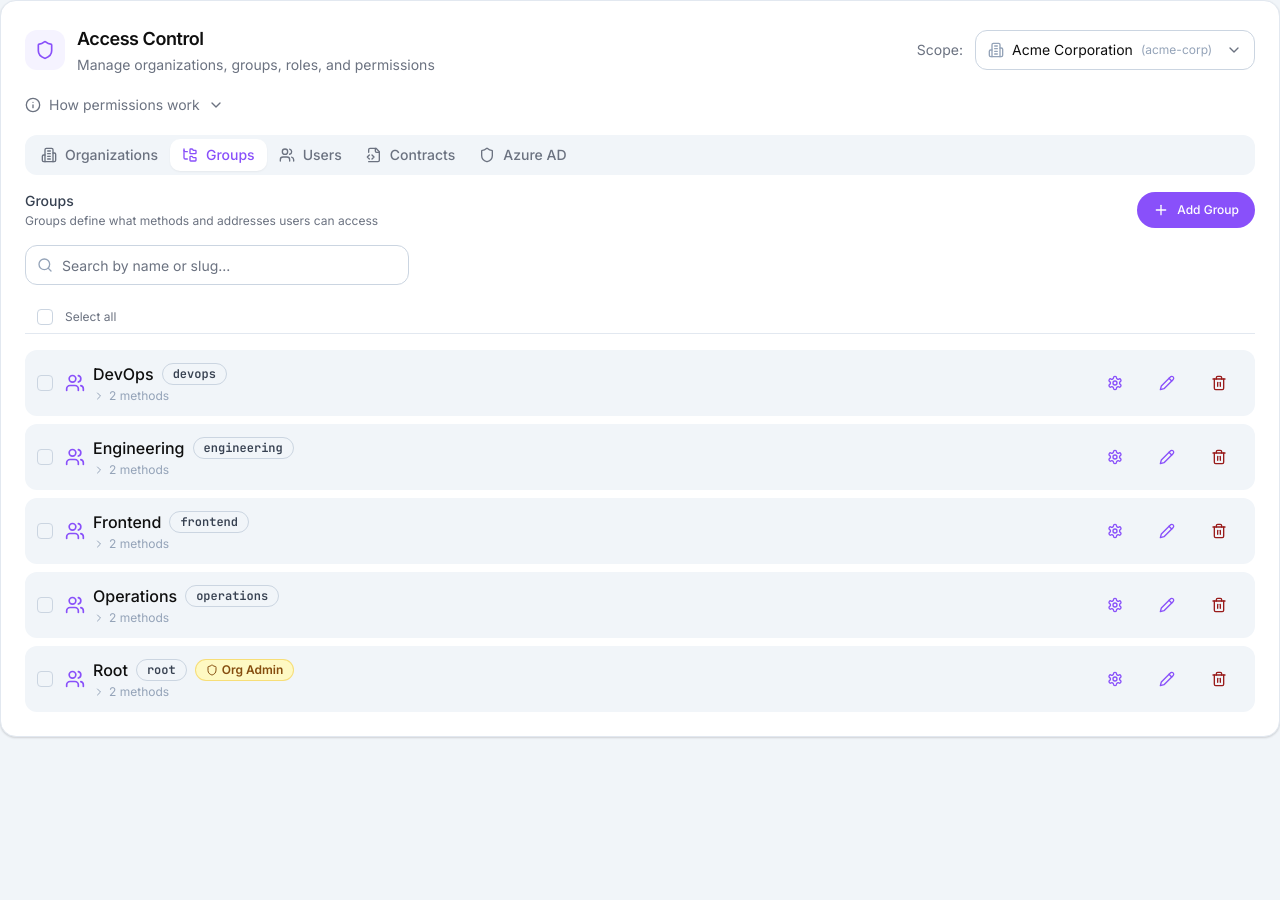
Scenario: RBACManager Integration Tests › Tab Navigation › navigates from Groups to Users tab
Click the tab with test id "tab-users" at (310, 155), box [267,139,354,171]
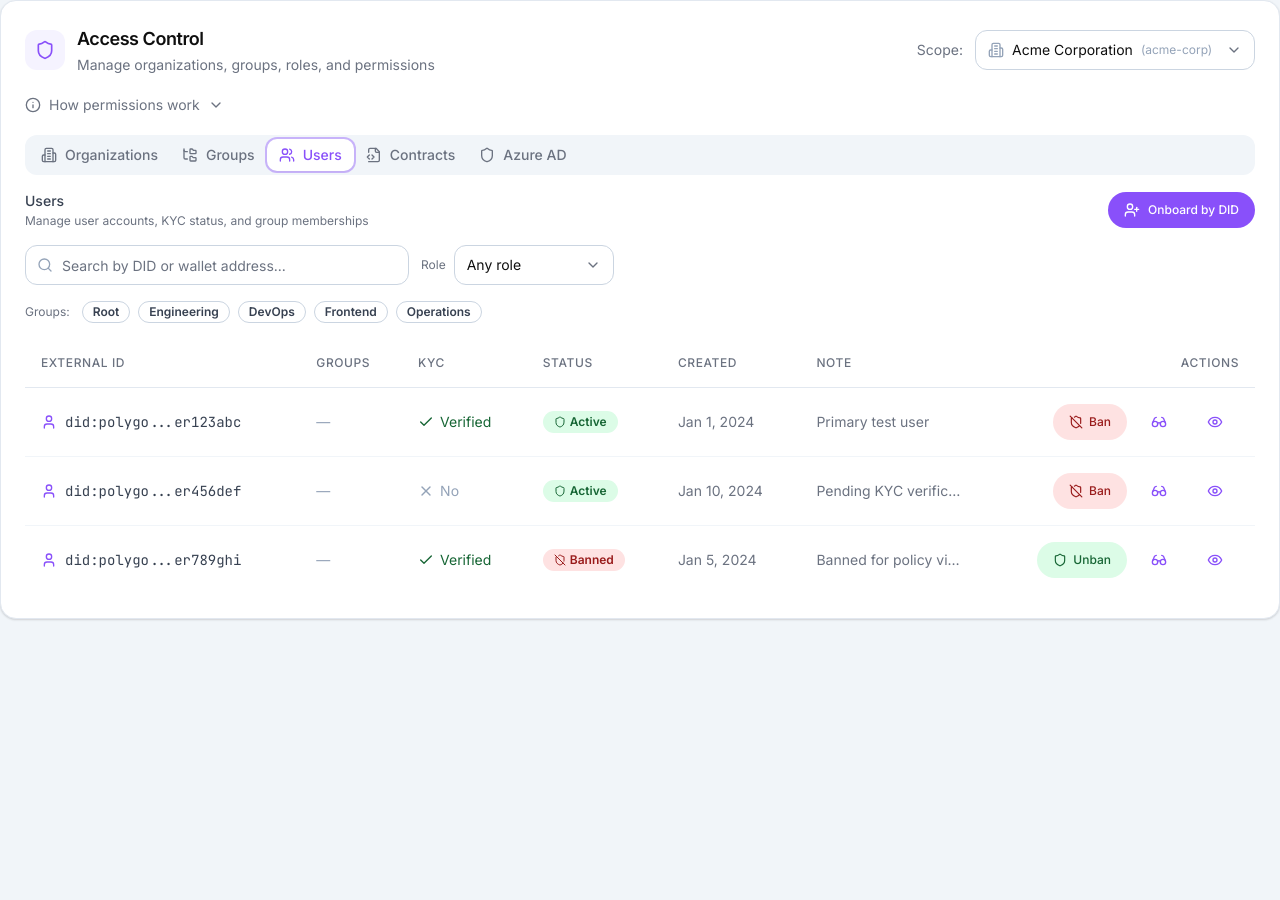
Expected: the heading "Users" is shown, [25,192,64,209]
